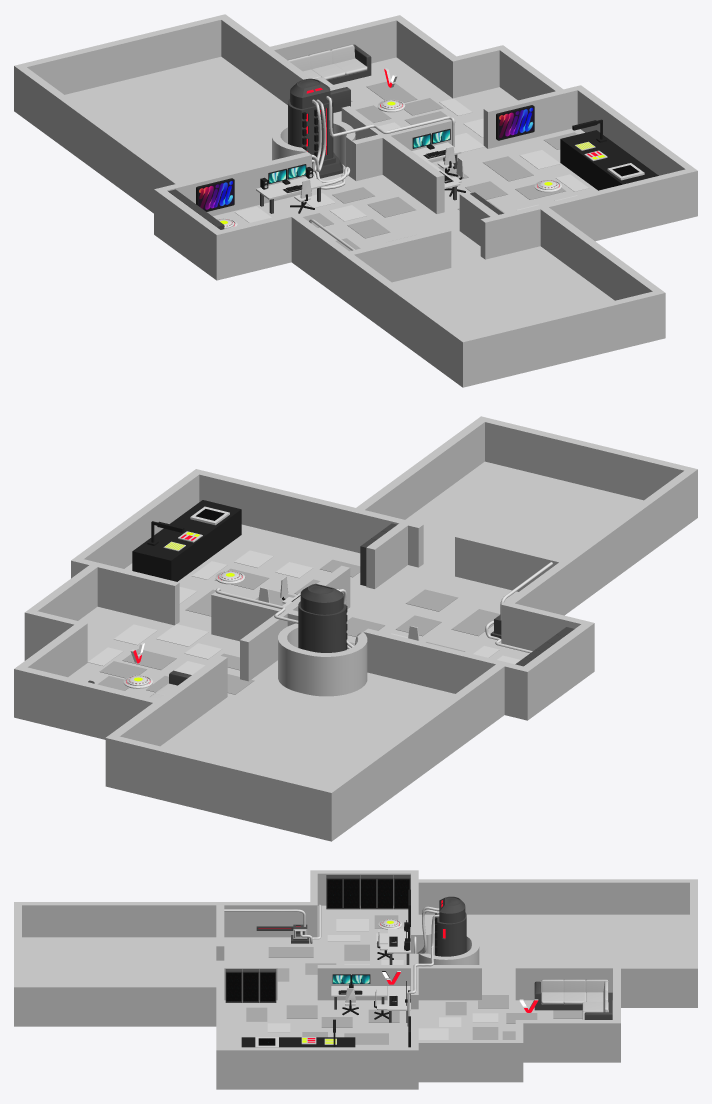
File: ground-test3.glb
3 views of the same model, one above another, from view 1: azimuth 30°, elevation 25°; view 2: azimuth 150°, elevation 25°; view 3: azimuth 270°, elevation 25° (orthographic). The views are drawn at different scales.
Parts seen in each view (by area): view 1: room1, room1.003, room2, room1.001, room1.002, room3.001, Plane.042, room3, Plane.069, Куб.002, Куб.001, BézierCurve.007 (+4 smaller); view 2: room1.003, room1, room2, room1.001, room1.002, Plane.042, room3, room3.001, Plane.021, Plane.081, Plane.003; view 3: room1, room1.003, room1.002, room1.001, room2, room3.001, room3, Plane.042, Plane.069, Plane.021, Plane.031, Plane.029 (+17 smaller).
Boxes of the visible parts, box(x1,y1,x2,y2) form: room1: box(341, 204, 665, 387); room1.003: box(14, 14, 350, 213); room2: box(154, 133, 498, 298); room1.001: box(388, 85, 697, 241); room1.002: box(261, 15, 563, 144); room3.001: box(288, 78, 343, 178); Plane.042: box(560, 130, 658, 190); room3: box(272, 119, 355, 177); Plane.069: box(327, 44, 371, 112); Куб.002: box(498, 107, 533, 138); Куб.001: box(198, 180, 233, 210); BézierCurve.007: box(326, 96, 454, 146); room1.003: box(105, 660, 504, 841); room1: box(351, 416, 697, 612); room2: box(283, 523, 594, 720); room1.001: box(71, 469, 366, 641); room1.002: box(14, 565, 287, 743); Plane.042: box(132, 500, 241, 581); room3: box(278, 623, 367, 696); room3.001: box(298, 583, 347, 652); Plane.021: box(451, 609, 500, 636); Plane.081: box(156, 624, 208, 646); Plane.003: box(406, 589, 457, 611); room1: box(14, 902, 224, 1026); room1.003: box(418, 879, 697, 1007); room1.002: box(418, 965, 620, 1082); room1.001: box(216, 968, 418, 1089); room2: box(224, 870, 418, 1000); room3.001: box(435, 896, 466, 956); room3: box(418, 929, 479, 964); Plane.042: box(241, 1037, 355, 1047); Plane.069: box(534, 981, 612, 1019); Plane.021: box(268, 947, 313, 957); Plane.031: box(331, 986, 387, 996); Plane.029: box(256, 924, 309, 943).
Bounding box in the file's own units: 12.84 × 2.73 × 20.61.
Materials: 13 (3 with a texture image).
